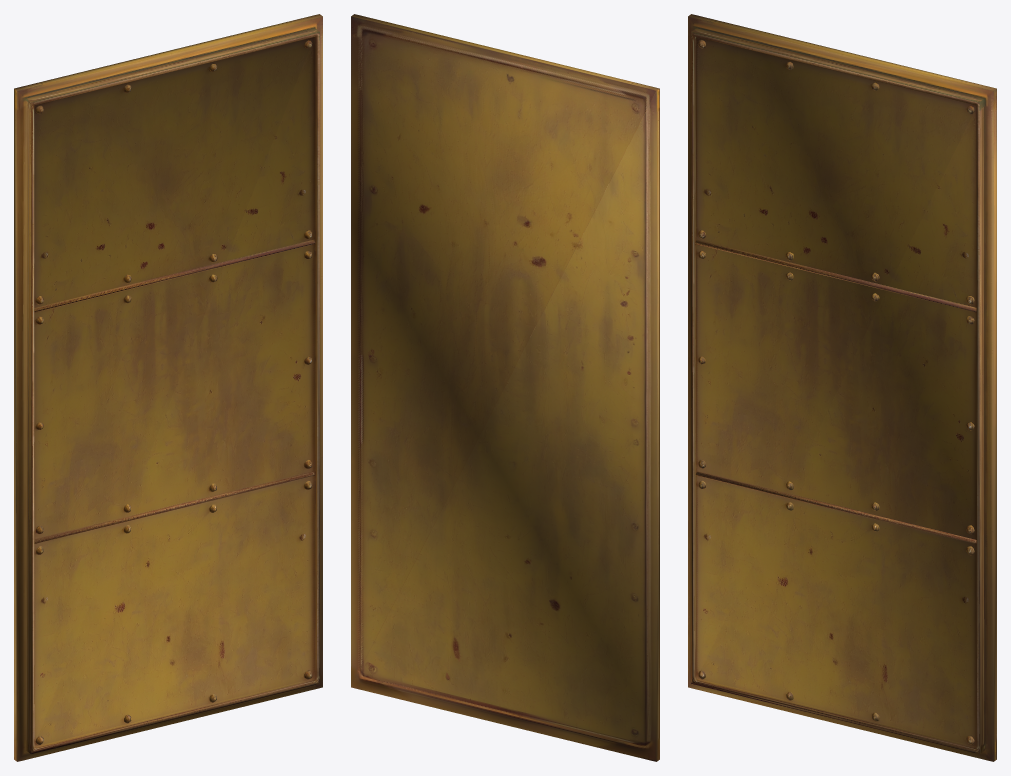
Rendered from wall-yellow.glb.
The picture shows the model from 3 angles, left to right: view 1: azimuth 30°, elevation 25°; view 2: azimuth 150°, elevation 25°; view 3: azimuth 330°, elevation 25°; orthographic projection.
Parts seen in each view (by area): view 1: Meshy_Mesh_0; view 2: Meshy_Mesh_0; view 3: Meshy_Mesh_0.
Part boxes in pixels (x1=…): Meshy_Mesh_0: x1=14, y1=14, x2=322, y2=761; Meshy_Mesh_0: x1=351, y1=14, x2=659, y2=761; Meshy_Mesh_0: x1=688, y1=14, x2=996, y2=761.
Size of the model in its own units: 0.9531 by 2 by 0.0503.
Materials: 1 (1 with a texture image).
